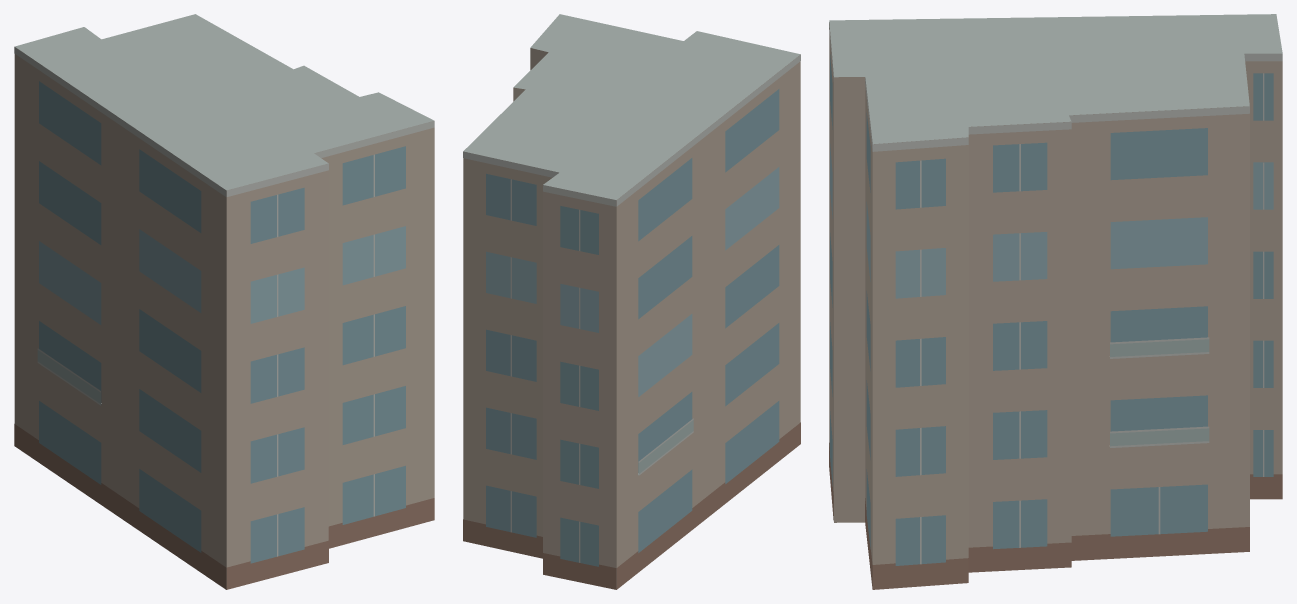
Rendered from survey-upis-32971861.glb.
3 renders of one model, left to right at view 1: azimuth 30°, elevation 25°; view 2: azimuth 150°, elevation 25°; view 3: azimuth 270°, elevation 25°, orthographic. The views are drawn at different scales.
Parts seen in each view (by area): view 1: survey-upis-32971861.tmp; view 2: survey-upis-32971861.tmp; view 3: survey-upis-32971861.tmp.
Boxes of the visible parts, <box> form: survey-upis-32971861.tmp: <box>14,14,434,589</box>; survey-upis-32971861.tmp: <box>463,14,800,589</box>; survey-upis-32971861.tmp: <box>829,14,1282,589</box>.
Bounding box in the file's own units: 8.9 × 14.19 × 13.1.
